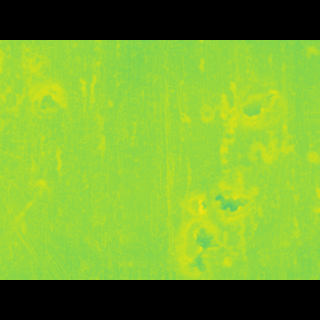Loch: (174, 203, 234, 247), (234, 101, 288, 131), (212, 174, 257, 202), (27, 104, 66, 128), (183, 184, 212, 201), (25, 77, 47, 96)
